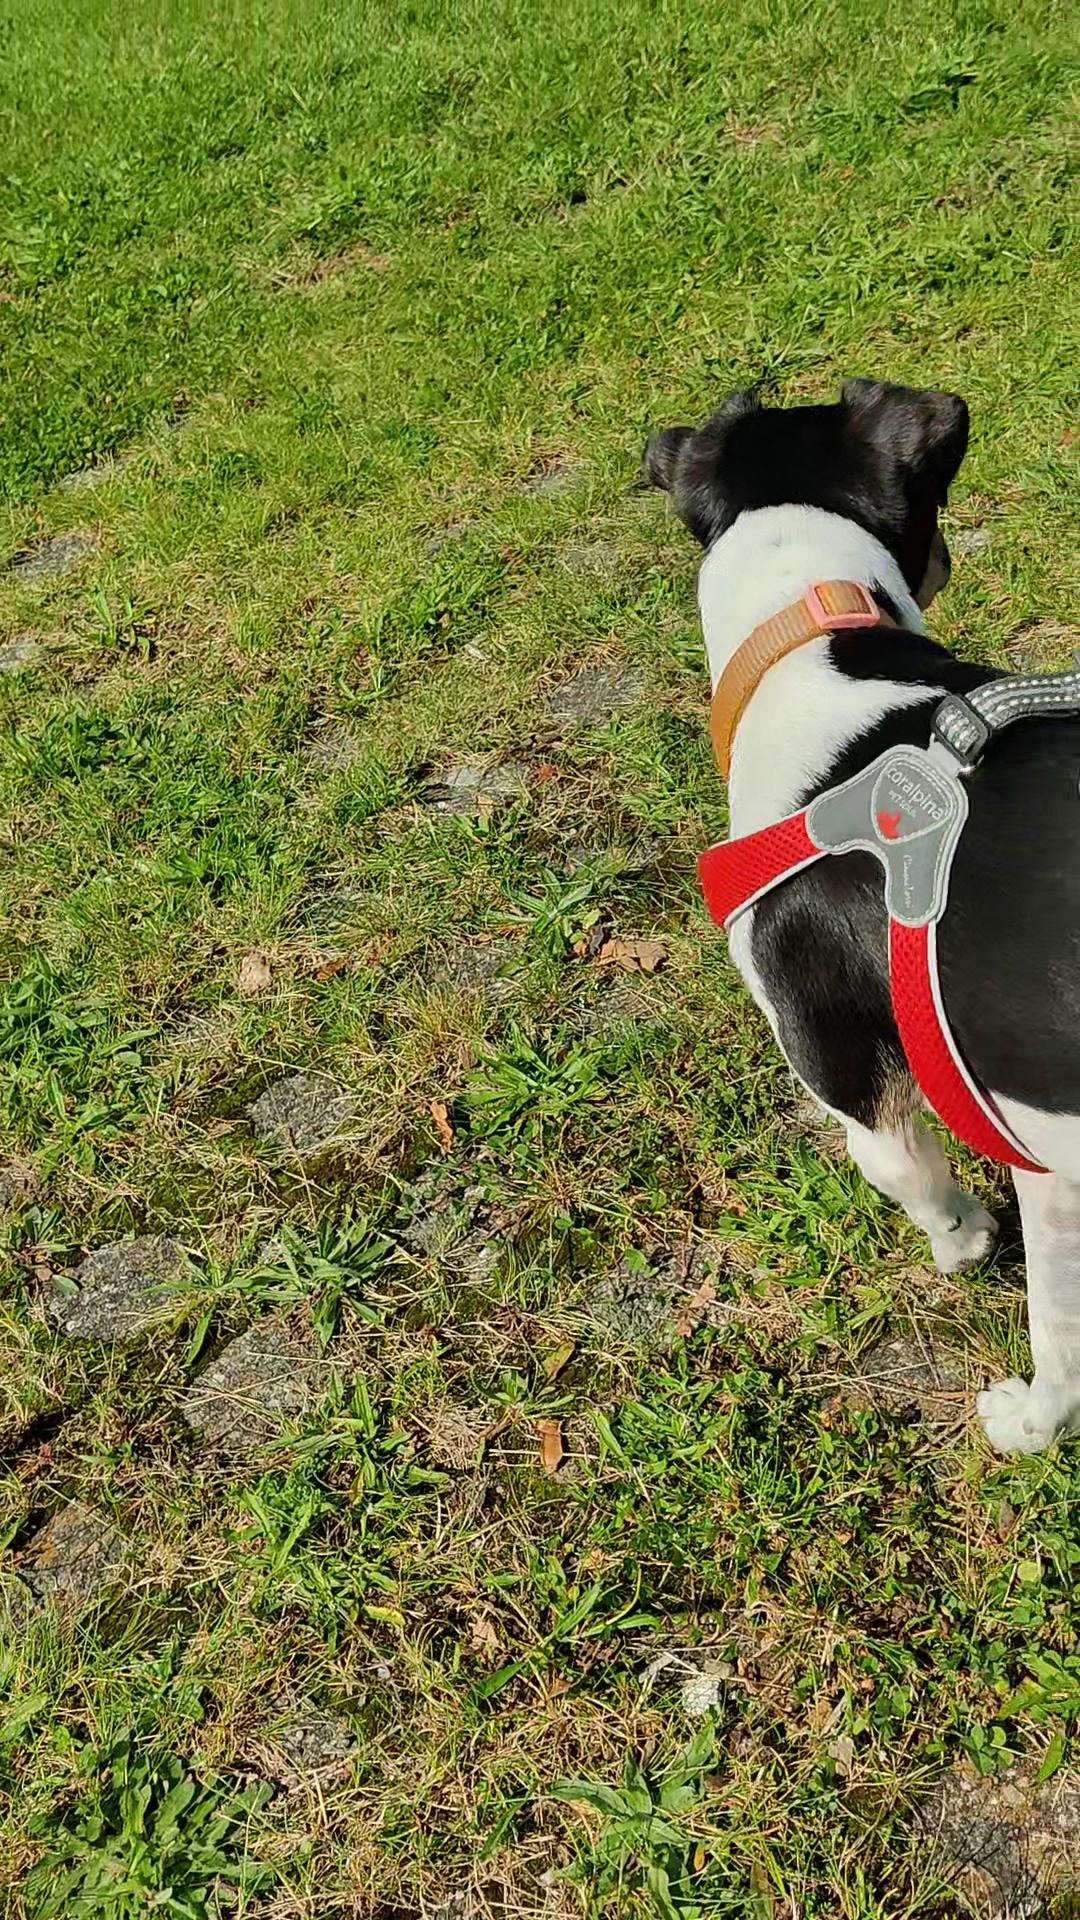Dog: (600, 345, 1079, 1516)
